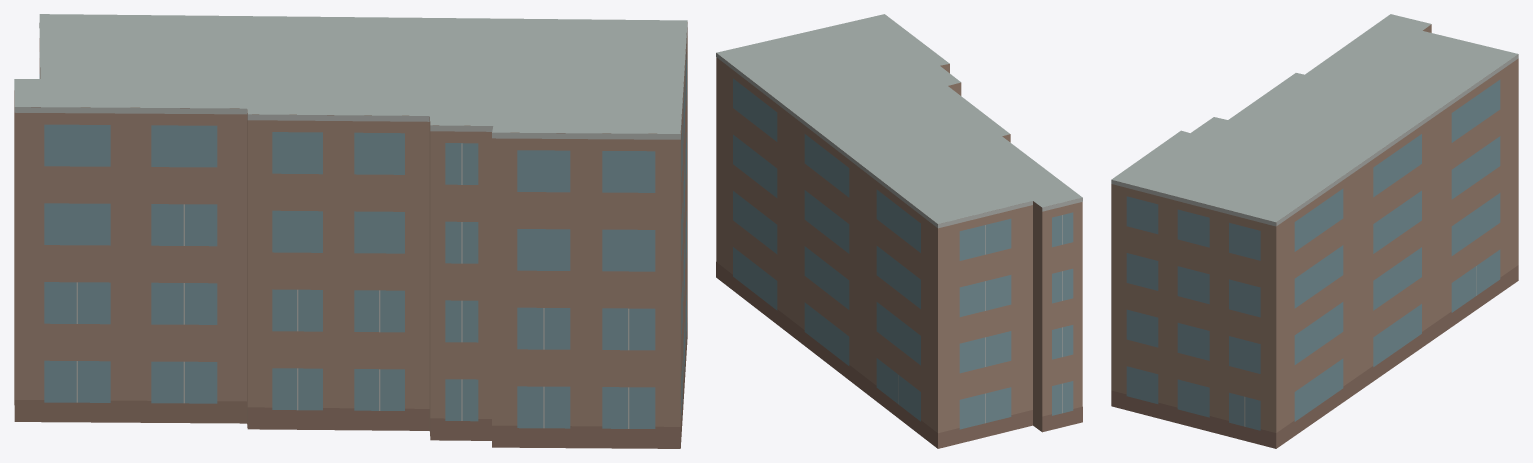
Rendered from survey-upis-32961408.glb.
The picture shows the model from 3 angles, left to right: view 1: azimuth 30°, elevation 25°; view 2: azimuth 150°, elevation 25°; view 3: azimuth 270°, elevation 25°; orthographic projection. The views are drawn at different scales.
Parts seen in each view (by area): view 1: survey-upis-32961408.tmp; view 2: survey-upis-32961408.tmp; view 3: survey-upis-32961408.tmp.
Part boxes in pixels (box(x1,y1,x2,y2)): survey-upis-32961408.tmp: box(14, 14, 687, 448); survey-upis-32961408.tmp: box(716, 14, 1082, 448); survey-upis-32961408.tmp: box(1111, 14, 1518, 448).
Size of the model in its own units: 25.84 by 13.1 by 21.36.
